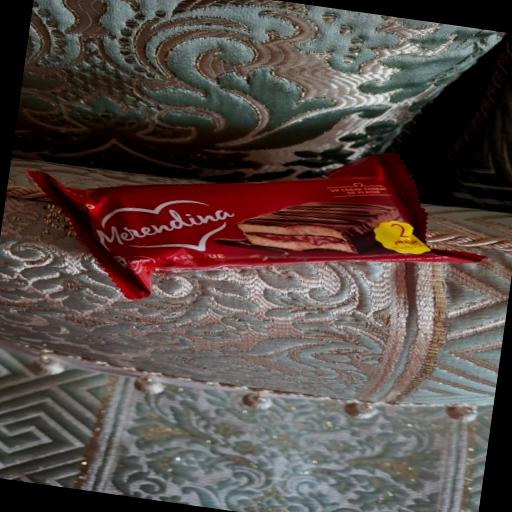merendina: (32, 112, 490, 358)
